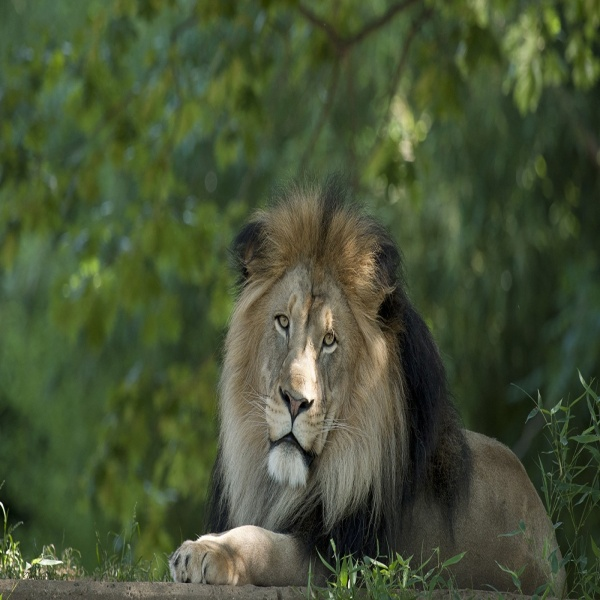Lion: (166, 166, 570, 600)
